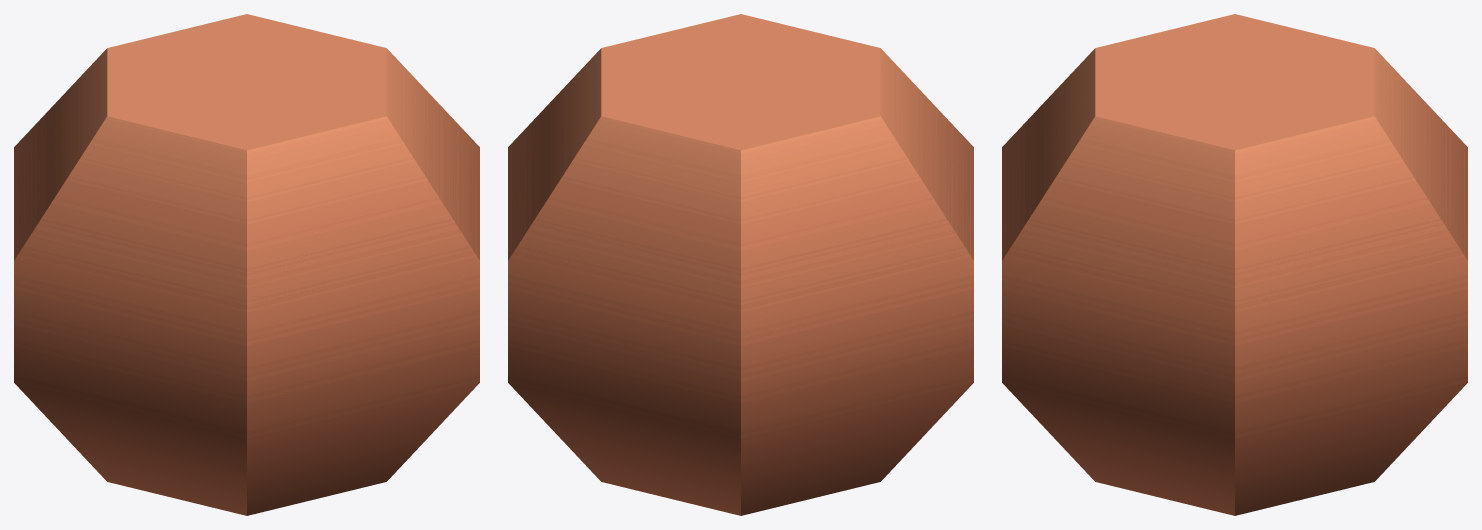
Rendered from weapon-ammo-boulder.glb.
3 renders of one model, left to right at view 1: azimuth 30°, elevation 25°; view 2: azimuth 150°, elevation 25°; view 3: azimuth 270°, elevation 25°, orthographic.
Visible parts, largest first — view 1: weapon-ammo-boulder; view 2: weapon-ammo-boulder; view 3: weapon-ammo-boulder.
Boxes of the visible parts, x1=… form: weapon-ammo-boulder: x1=14, y1=14, x2=479, y2=515; weapon-ammo-boulder: x1=508, y1=14, x2=973, y2=515; weapon-ammo-boulder: x1=1002, y1=14, x2=1467, y2=515.
Bounding box in the file's own units: 0.32 × 0.24 × 0.2771.
1 material, 1 textured.
